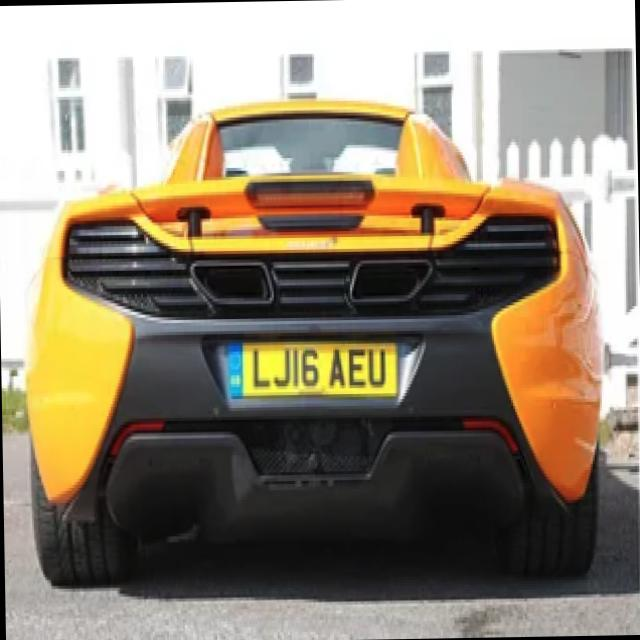LicensePlate: (226, 342, 398, 402)
